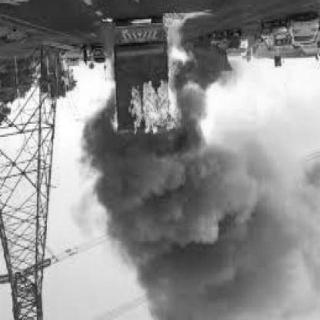Fire: (106, 12, 194, 144)
Smoke: (95, 132, 311, 320)
